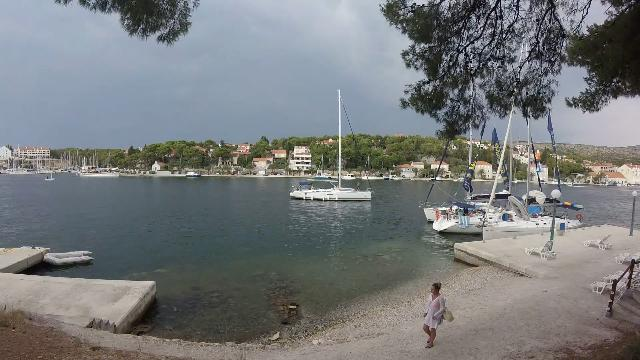Sailboat: (284, 174, 378, 209), (40, 171, 62, 183)
